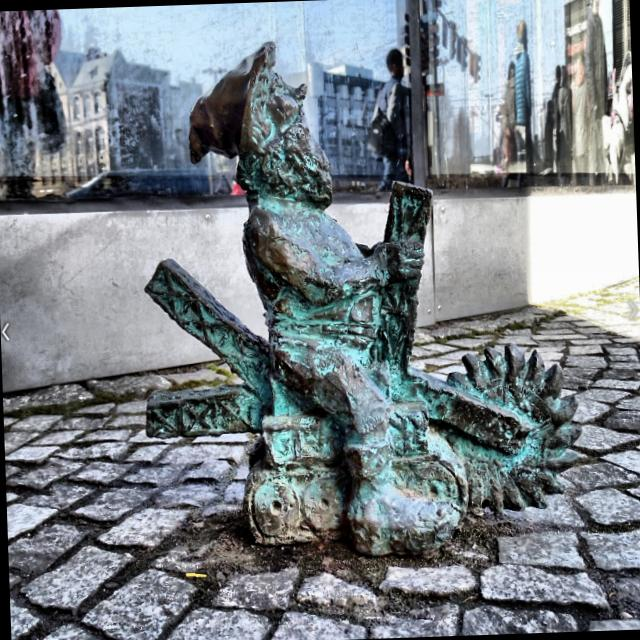Automatek: (145, 43, 579, 554)
